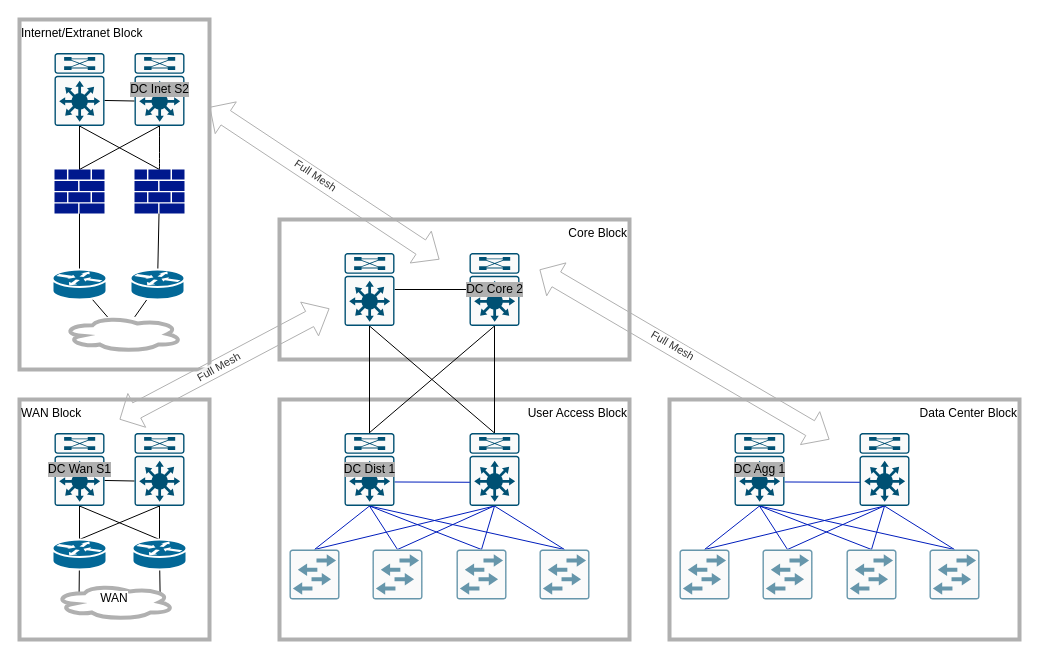
The diagram is 1038 pixels wide and 658 high, and some of its shapes have lost their labels. Each missing label, with the centre of its shape:
DC Agg 2: (884,469)
DC Core 1: (369,289)
DC Dist 2: (494,469)
DC Inet S1: (79,89)
DC Wan S2: (159,469)
Internet: (122,333)
